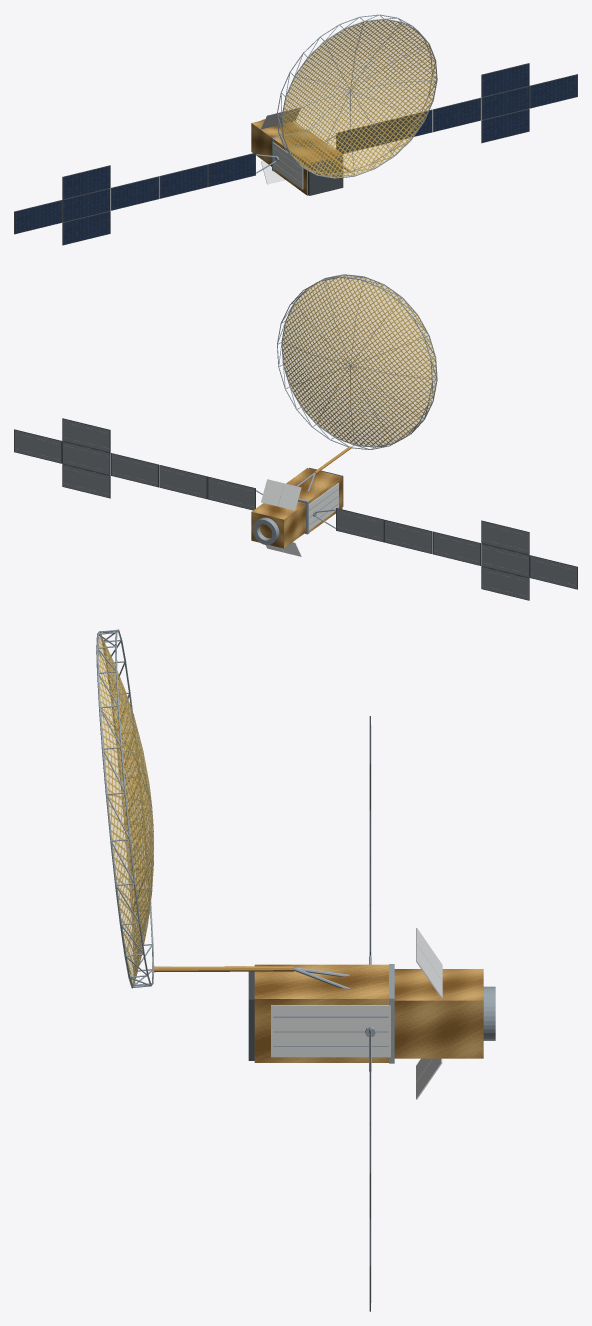
Rendered from ref-alphabus-39215.glb.
3 views of the same model, one above another, from view 1: azimuth 30°, elevation 25°; view 2: azimuth 150°, elevation 25°; view 3: azimuth 270°, elevation 25° (orthographic). The views are drawn at different scales.
Visible parts, largest first — view 1: Deployable mesh reflector, Solar cell panel (×14), Payload module, Service module, Earth-facing deck, Radiator face; view 2: Deployable mesh reflector, Rear array substrate (×14), Service module, Payload module, Deployed radiator leaf (×2), Radiator face, Launch adapter ring; view 3: Deployable mesh reflector, Service module, Payload module, Radiator face, Reflector deployment boom.
Boxes of the visible parts, box(x1,y1,x2,y2) form: Deployable mesh reflector: box(282, 19, 436, 177); Solar cell panel (×14): box(15, 64, 577, 244); Payload module: box(273, 131, 342, 195); Service module: box(251, 120, 303, 166); Earth-facing deck: box(308, 156, 343, 195); Radiator face: box(272, 142, 303, 189); Deployable mesh reflector: box(282, 275, 436, 446); Rear array substrate (×14): box(14, 419, 576, 599); Service module: box(251, 501, 305, 548); Payload module: box(286, 468, 342, 532); Deployed radiator leaf (×2): box(261, 479, 301, 510); Radiator face: box(308, 483, 338, 530); Launch adapter ring: box(253, 517, 279, 544); Deployable mesh reflector: box(98, 636, 153, 985); Service module: box(394, 969, 483, 1058); Payload module: box(254, 964, 388, 1062); Radiator face: box(271, 1005, 390, 1057); Reflector deployment boom: box(153, 966, 293, 972).
Size of the model in its own units: 39.97 by 14.82 by 12.26.
8 materials, 3 textured.
